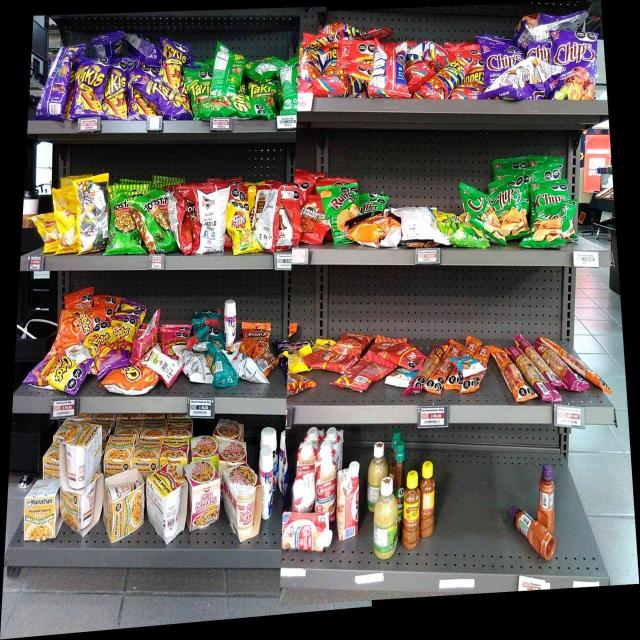bitzAlmendras: (388, 369, 409, 387), (458, 358, 478, 376)
bitzEnchilado90: (316, 350, 352, 371), (392, 345, 421, 368)
bitzEnchilado95: (502, 361, 524, 402), (452, 336, 481, 356), (428, 365, 447, 394)
bitzHabanero: (527, 338, 563, 402)
botaneraChilito: (404, 476, 419, 549), (421, 460, 433, 538)
cheetosFlaminHot: (34, 358, 78, 392), (88, 334, 116, 370), (119, 316, 132, 355)
cheetosOriginal: (118, 368, 152, 392), (59, 310, 92, 332)
chipsFuego: (555, 33, 594, 98), (486, 44, 522, 74)
chipsJalapeno: (494, 176, 526, 236), (527, 210, 566, 247), (531, 184, 568, 207), (470, 193, 493, 225)
chipsPapatinas: (434, 209, 469, 248)
churrumais: (162, 329, 184, 354), (136, 329, 159, 349)
delPrimoSalsa: (375, 476, 398, 560)
doritosNacho: (178, 191, 198, 252)
fritosLimon: (229, 202, 251, 254)
hotNutsOriginal: (361, 214, 399, 250)
leoCacahuates: (231, 352, 255, 374)
leoMix: (242, 321, 270, 349)
maruchanPollo: (60, 423, 101, 477), (102, 481, 144, 532), (61, 481, 101, 532), (24, 496, 56, 541)
maruchanRes: (145, 464, 187, 536)
nestleCarnation: (282, 512, 333, 552), (338, 462, 358, 537), (316, 457, 336, 509), (296, 446, 314, 478)
nestleLechera: (262, 446, 272, 518), (223, 301, 236, 345)
nissinRes: (222, 464, 260, 539), (188, 463, 220, 524)
productoAtras: (374, 40, 406, 99), (78, 180, 105, 249), (199, 192, 227, 252), (48, 59, 72, 119), (213, 44, 241, 94), (253, 190, 275, 253), (400, 206, 430, 248), (354, 361, 387, 392), (524, 57, 553, 85), (181, 356, 208, 384), (280, 69, 296, 115), (154, 356, 180, 384), (210, 346, 227, 386), (278, 205, 292, 248)
rancheritos: (298, 195, 321, 245)
rufflesQueso: (322, 187, 359, 234), (360, 193, 384, 211)
runners: (327, 63, 367, 98), (299, 35, 324, 86), (430, 58, 458, 99), (460, 58, 483, 99), (327, 23, 368, 40)
sabritasOriginal: (56, 190, 76, 253), (40, 214, 55, 252)
salsaBufalo: (394, 440, 405, 473)
tajinDulce: (508, 504, 536, 540), (538, 465, 554, 522)
takisFuego: (74, 58, 106, 116), (107, 62, 130, 120), (161, 41, 184, 90), (156, 90, 188, 118), (131, 87, 154, 118)
takisOriginal: (190, 69, 210, 117), (213, 96, 252, 114), (256, 86, 274, 106)
tostitos: (107, 185, 136, 256), (144, 193, 169, 252)
